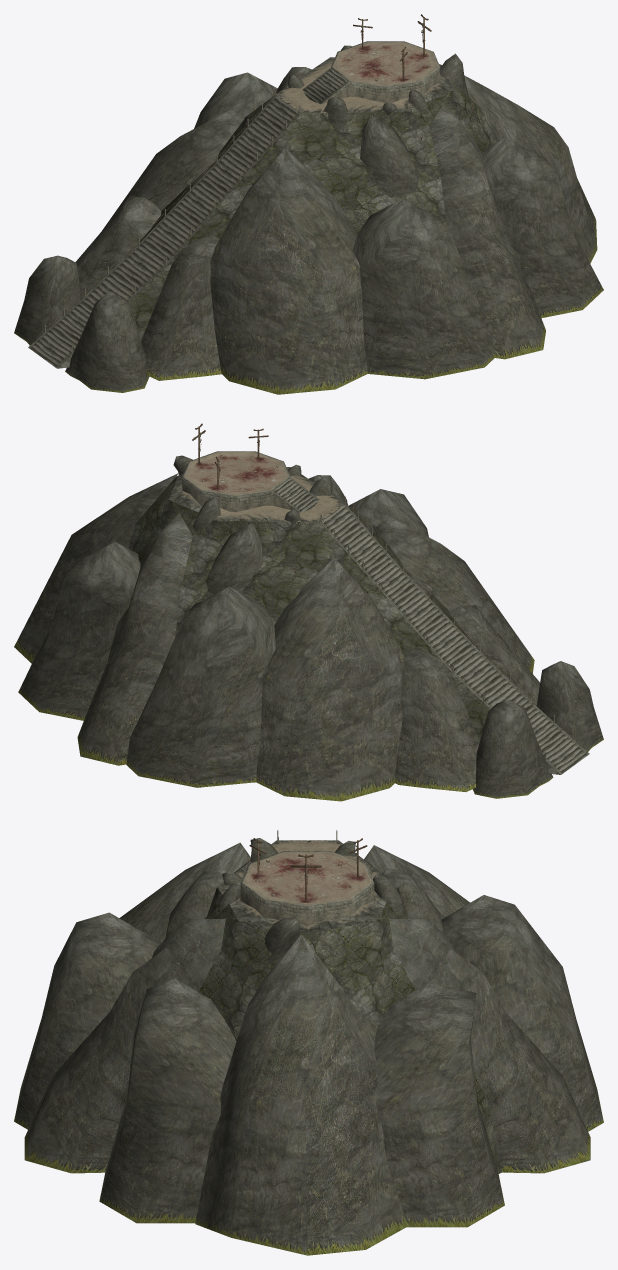
Rendered from roc_altar.glb.
3 renders of one model, top to bottom at view 1: azimuth 30°, elevation 25°; view 2: azimuth 150°, elevation 25°; view 3: azimuth 270°, elevation 25°, orthographic. The views are drawn at different scales.
Visible parts, largest first — view 1: Rok_mt_altar_00, Rok_mt_altar_01, Rok_mt_altar_03, Rok_mt_altar_12, Rok_mt_altar_02, Rok_mt_altar_04; view 2: Rok_mt_altar_00, Rok_mt_altar_01, Rok_mt_altar_03, Rok_mt_altar_12, Rok_mt_altar_04, Rok_mt_altar_02; view 3: Rok_mt_altar_00, Rok_mt_altar_01, Rok_mt_altar_12, Rok_mt_altar_02, Rok_mt_altar_04, Rok_mt_altar_11.
Part boxes in pixels (bbox=[...]): Rok_mt_altar_00: bbox=[14, 45, 603, 394]; Rok_mt_altar_01: bbox=[57, 79, 496, 368]; Rok_mt_altar_03: bbox=[28, 68, 349, 368]; Rok_mt_altar_12: bbox=[333, 42, 438, 85]; Rok_mt_altar_02: bbox=[44, 41, 440, 353]; Rok_mt_altar_04: bbox=[276, 57, 453, 112]; Rok_mt_altar_00: bbox=[14, 455, 603, 801]; Rok_mt_altar_01: bbox=[101, 476, 560, 774]; Rok_mt_altar_03: bbox=[272, 477, 589, 774]; Rok_mt_altar_12: bbox=[184, 452, 287, 495]; Rok_mt_altar_04: bbox=[169, 467, 344, 522]; Rok_mt_altar_02: bbox=[182, 451, 573, 759]; Rok_mt_altar_00: bbox=[14, 838, 603, 1255]; Rok_mt_altar_01: bbox=[152, 843, 501, 1173]; Rok_mt_altar_12: bbox=[243, 852, 370, 905]; Rok_mt_altar_02: bbox=[240, 830, 374, 926]; Rok_mt_altar_04: bbox=[217, 840, 398, 933]; Rok_mt_altar_11: bbox=[197, 838, 408, 965].
Size of the model in its own units: 86.7 by 38.42 by 65.71.
13 materials, 13 textured.
